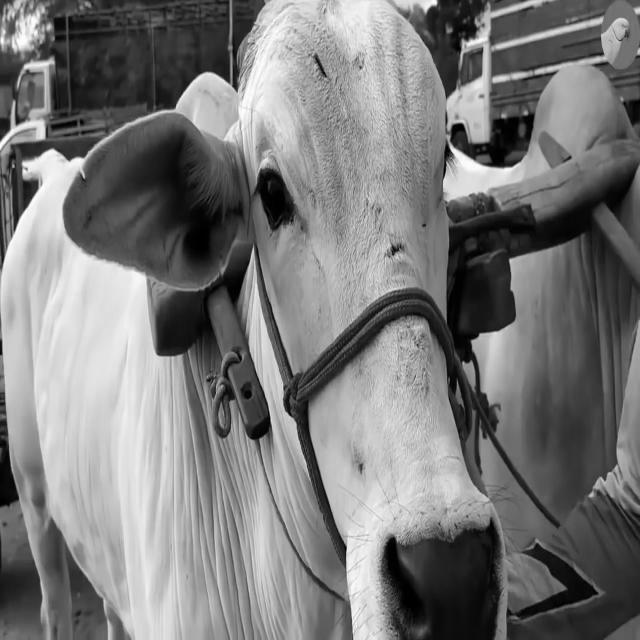cow: (1, 0, 505, 640)
